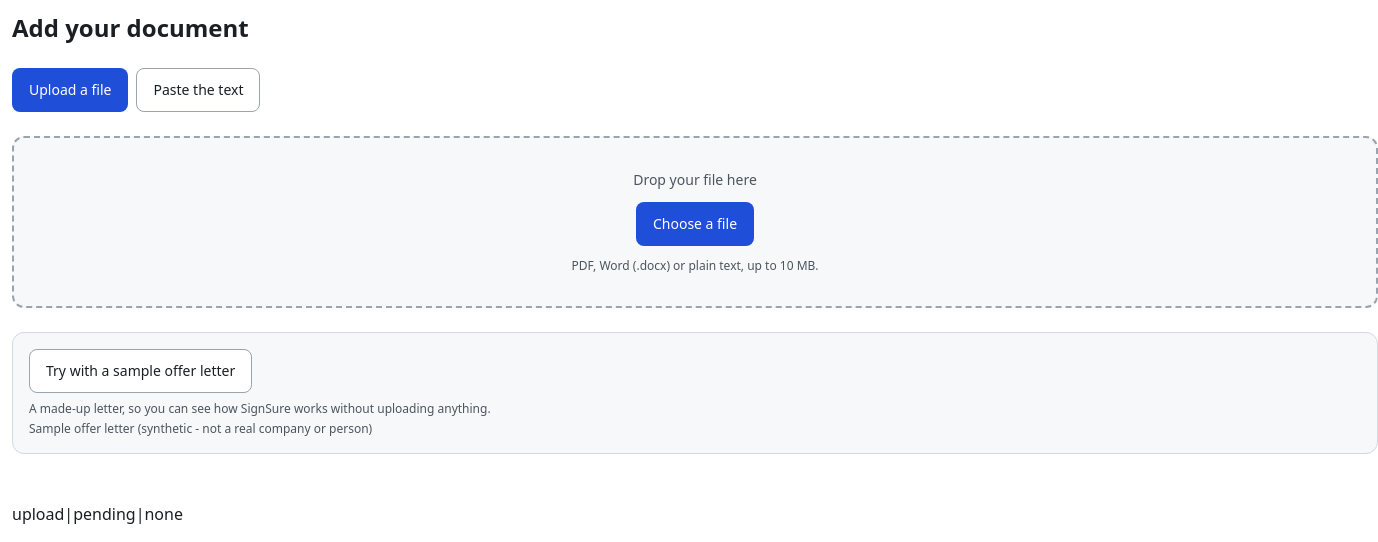
UploadScreen › reads the built-in sample without any file
Click the button "Try with a sample offer letter" at (141, 371), box [29, 349, 252, 393]
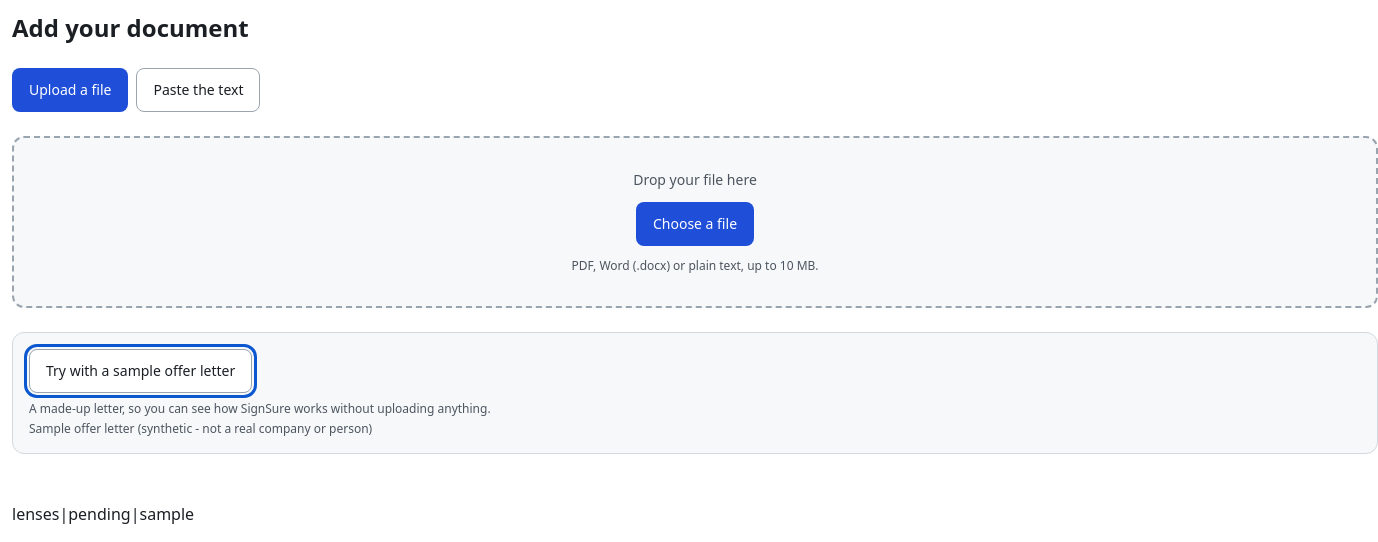
Expected: the text named "state" reads "lenses|pending|sample", [12, 503, 59, 525]
